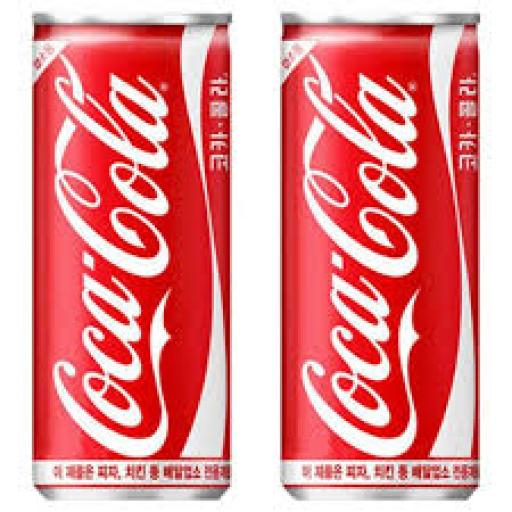Coca: (268, 2, 491, 512), (19, 2, 243, 508)
